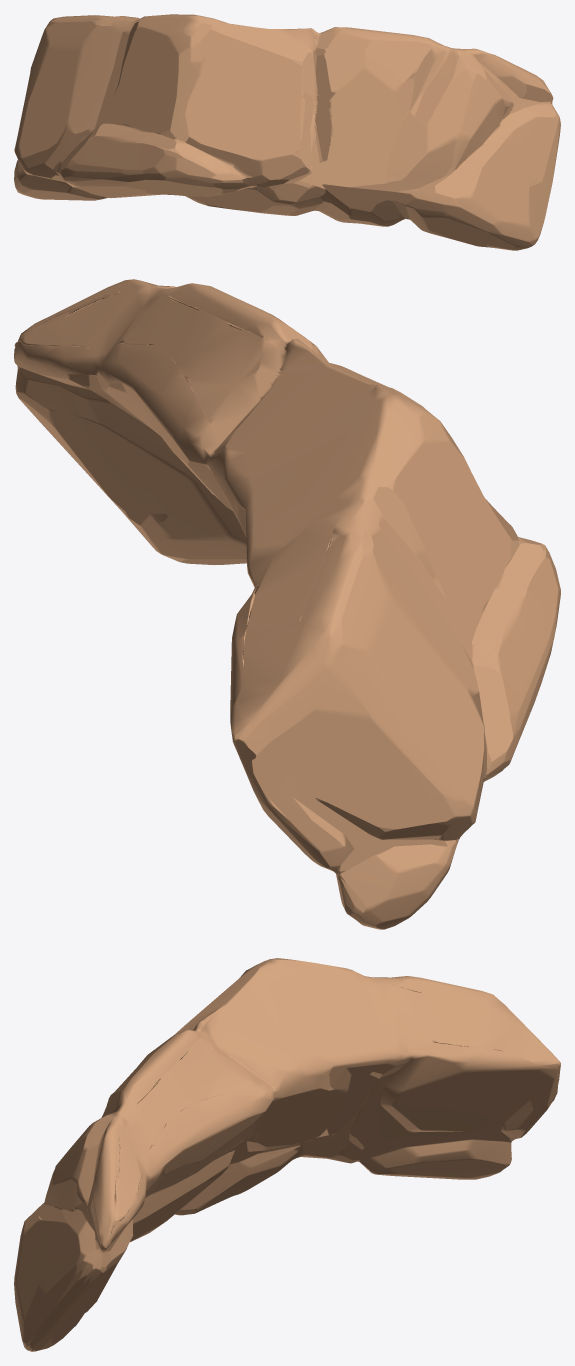
The picture shows the model from 3 angles, top to bottom: view 1: azimuth 30°, elevation 25°; view 2: azimuth 150°, elevation 25°; view 3: azimuth 270°, elevation 25°; orthographic projection. The views are drawn at different scales.
Parts seen in each view (by area): view 1: Mesh_29_LOD0; view 2: Mesh_29_LOD0; view 3: Mesh_29_LOD0.
Part boxes in pixels (x1,y1,x2,y2): Mesh_29_LOD0: [14, 14, 560, 250]; Mesh_29_LOD0: [14, 279, 560, 929]; Mesh_29_LOD0: [14, 958, 560, 1351].
Size of what is drawn, in the model's own units: 2916 by 1553 by 2870.
